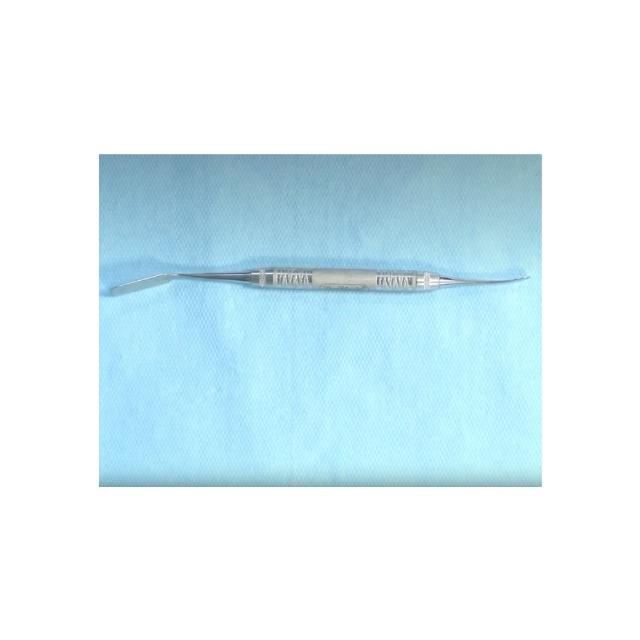elevador: (103, 265, 526, 299)
